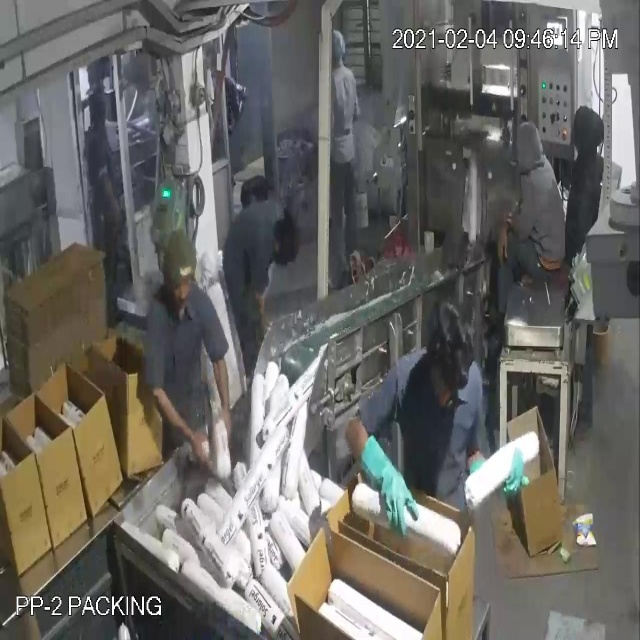Guantes: (358, 423, 433, 543), (466, 450, 524, 493)
Sin_guantes: (144, 380, 211, 468), (205, 337, 244, 460), (97, 163, 130, 228), (494, 215, 517, 280)
